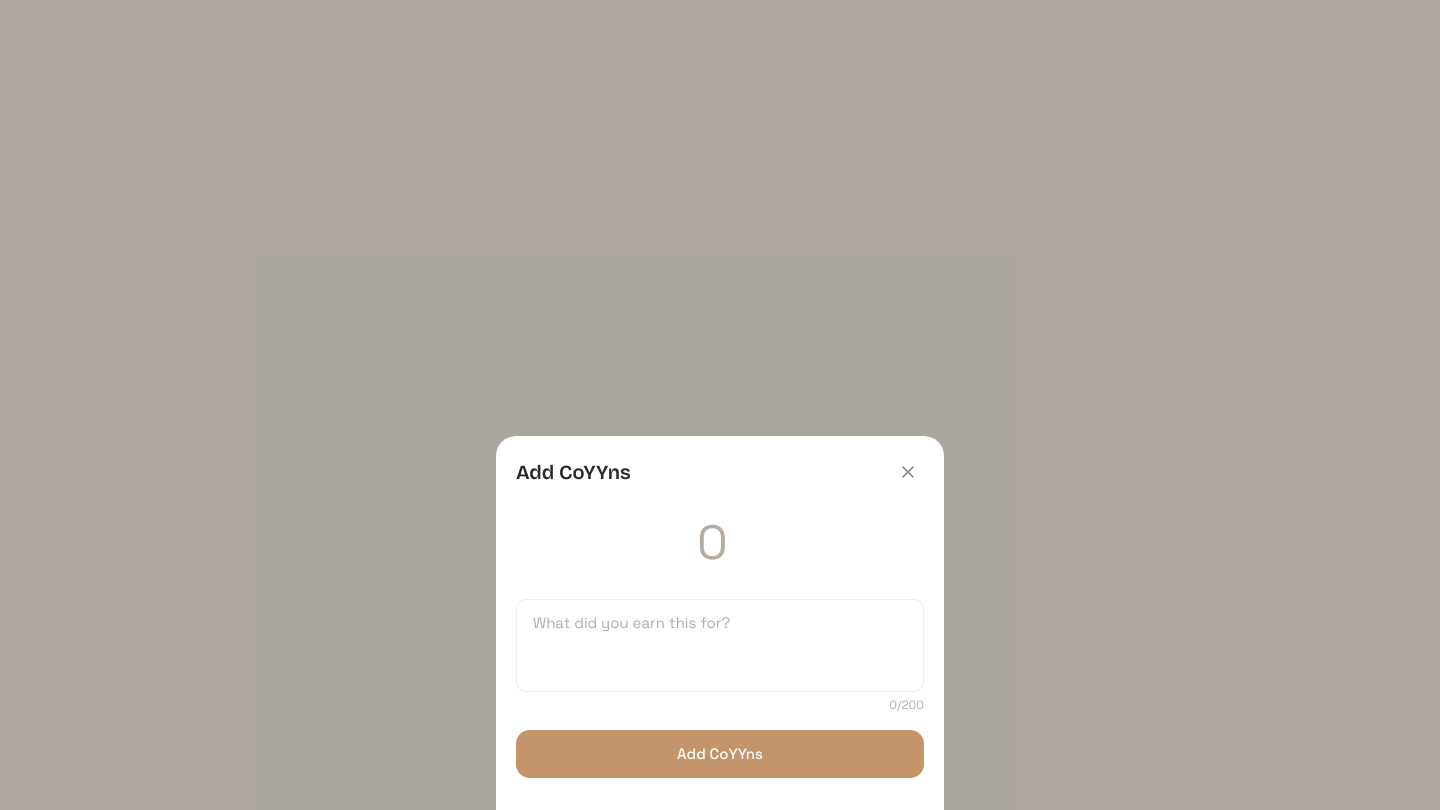
Test case: AddCoyynsForm › shows root error if addCoyyns throws
Type "50" into the number field with test id "add-amount-input". click: (720,547)
box: [516,512,924,582]
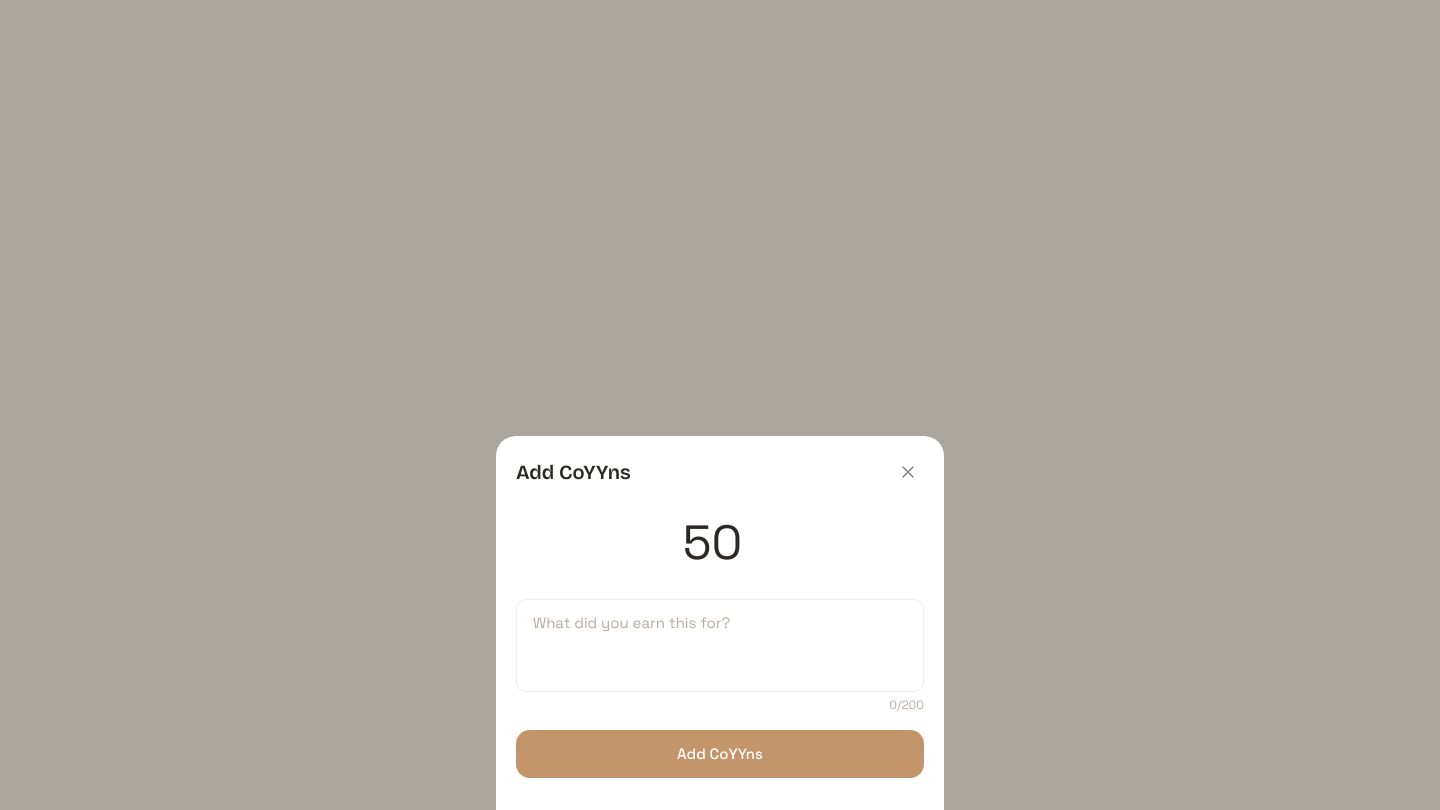
Type "Test" into the text box with test id "add-description-input". click: (720,645)
box: [516,598,924,692]
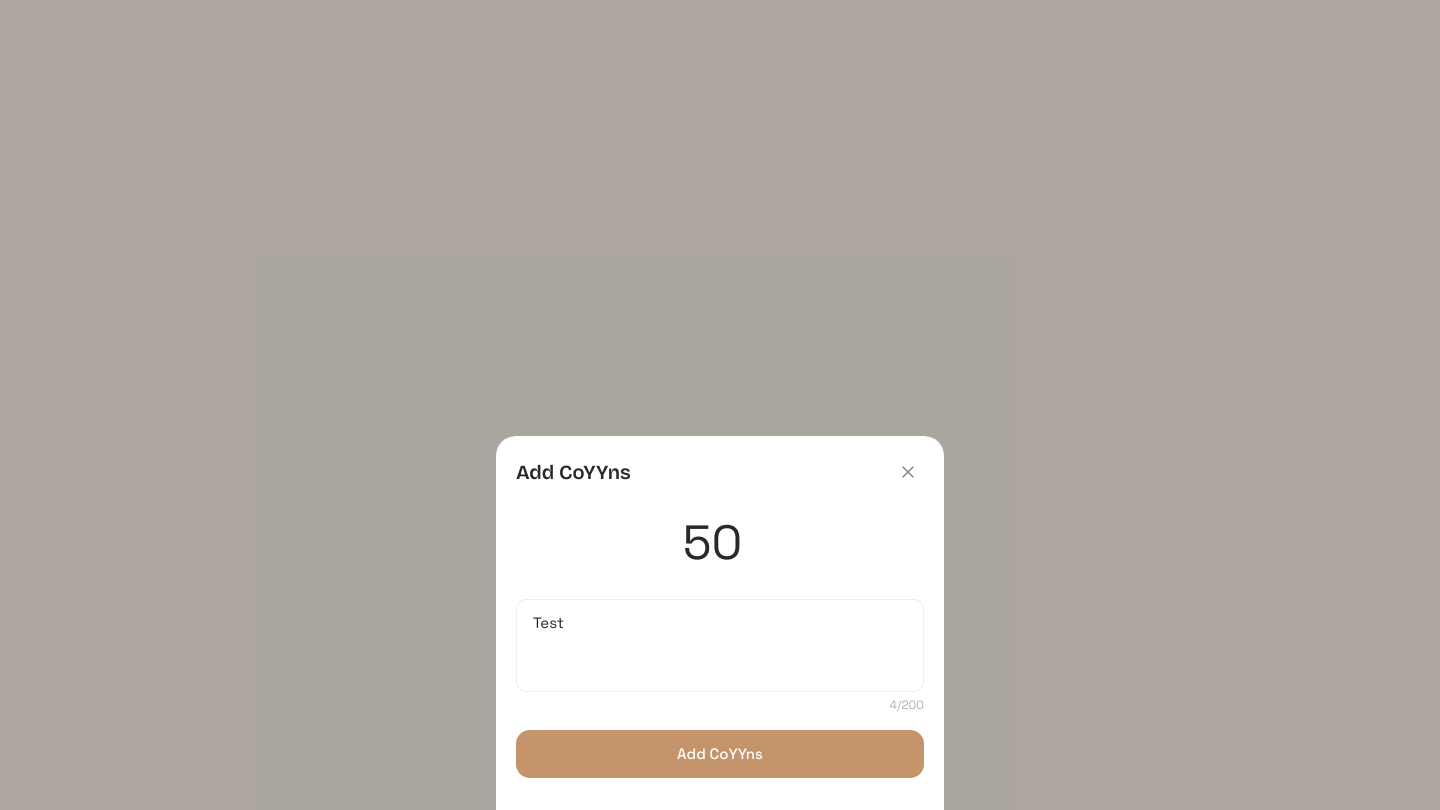
Click the button with test id "add-submit-button". click: (720,754)
box: [516,730,924,778]
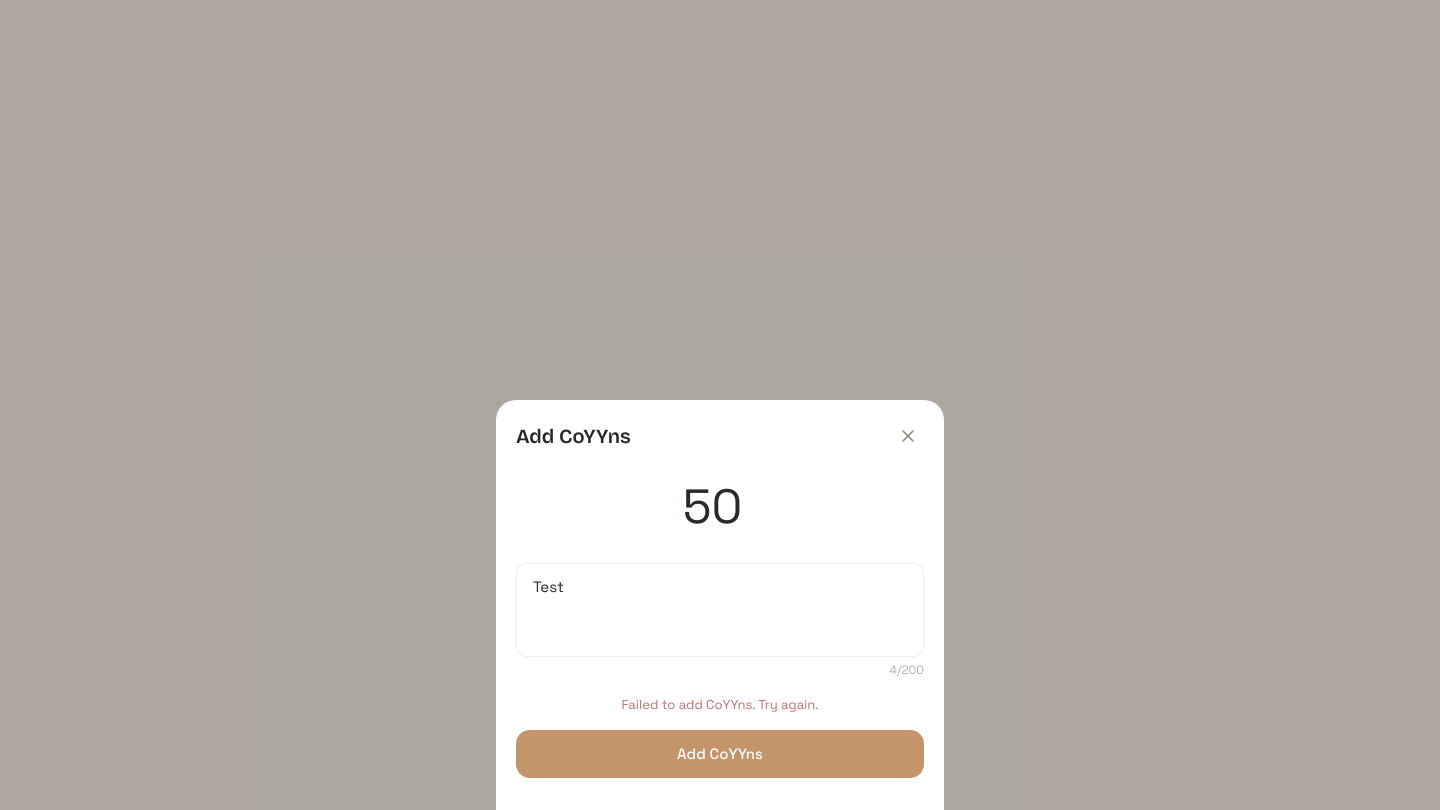
Now the text with test id "add-form-error" reads "Failed to add CoYYns. Try again.", box [621,696,818,712]
